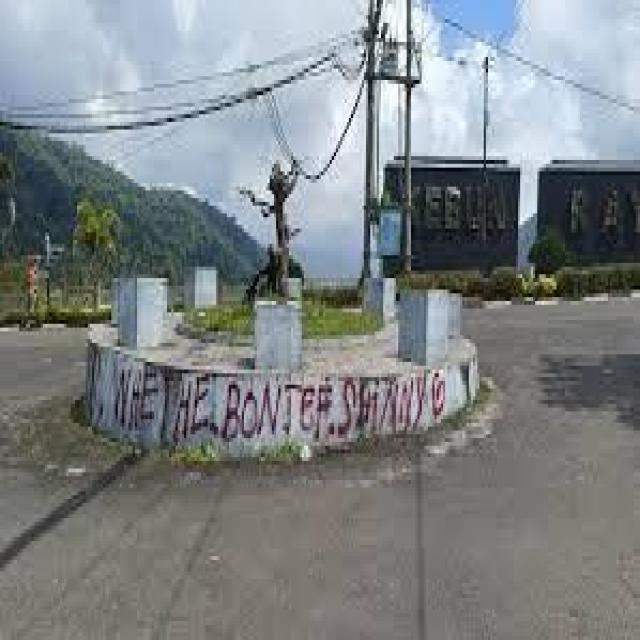nonspitting: (114, 362, 446, 446)
